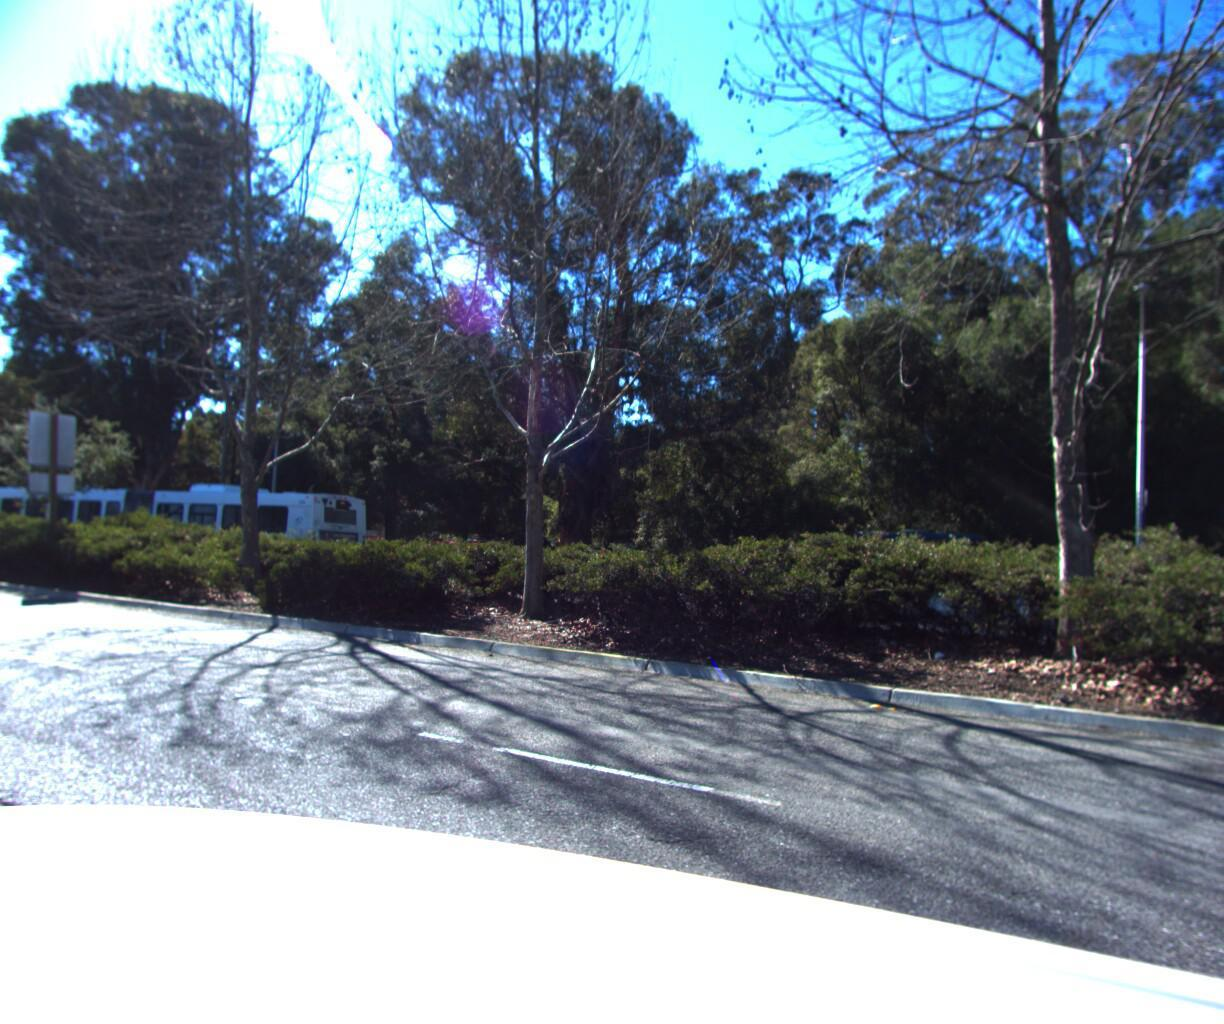bus: (0, 480, 390, 574)
